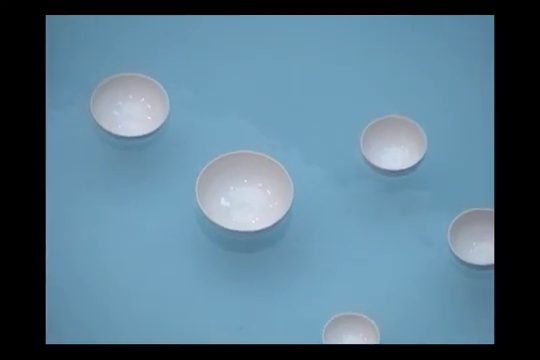bowl: (196, 150, 293, 238), (89, 72, 171, 143), (360, 114, 427, 177), (448, 207, 496, 270), (322, 312, 379, 345)
